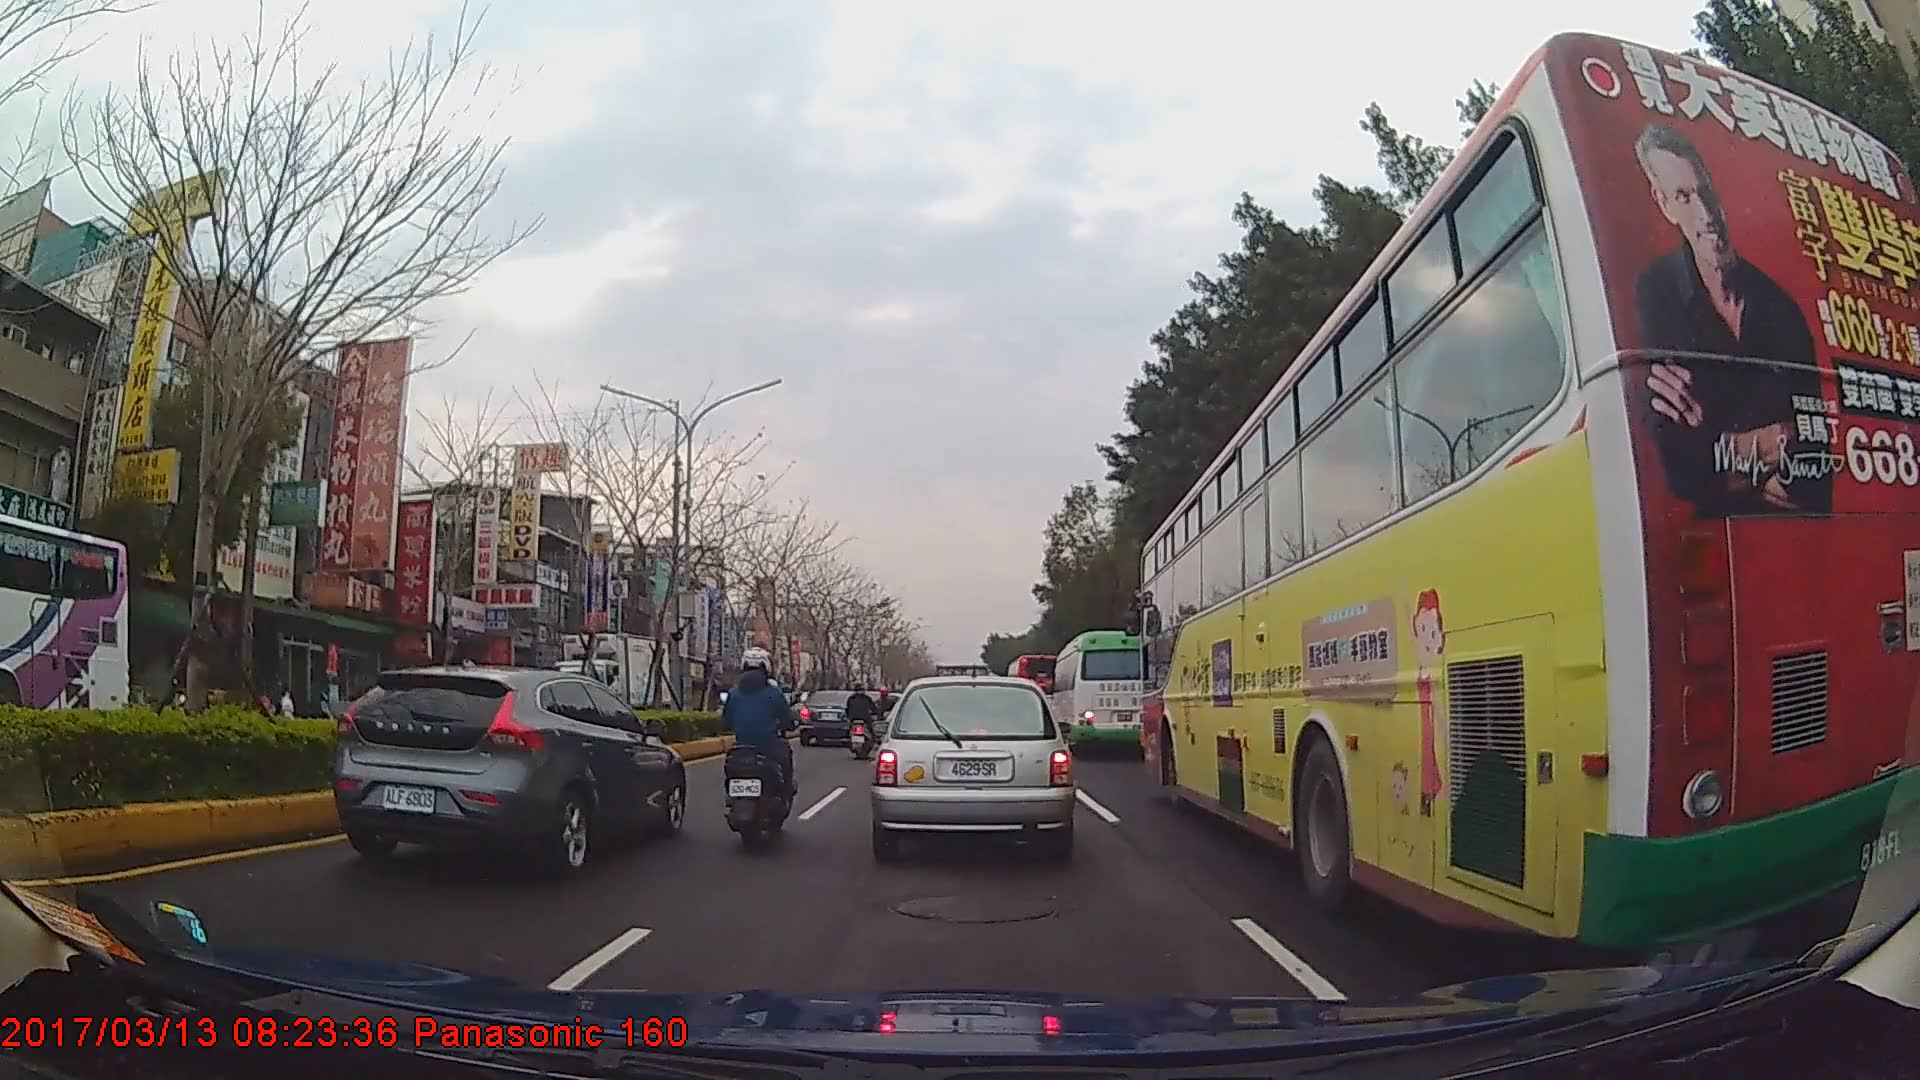rider: (720, 641, 801, 836), (748, 669, 788, 773), (845, 680, 880, 752), (873, 686, 897, 741)
vehicle: (1140, 26, 1920, 958), (334, 662, 686, 873), (873, 669, 1073, 853), (0, 512, 132, 751), (521, 620, 684, 754), (1050, 629, 1167, 756), (1004, 651, 1067, 725), (799, 687, 874, 744)
